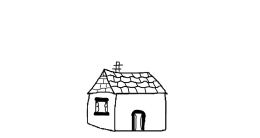bottom_placed_house: (5, 6, 260, 138)
chimney: (111, 54, 126, 78)
door: (128, 108, 153, 134)
open_window: (92, 95, 111, 118)
roof: (85, 67, 172, 96)
small_house: (1, 1, 260, 138)
wall: (113, 91, 169, 134)
